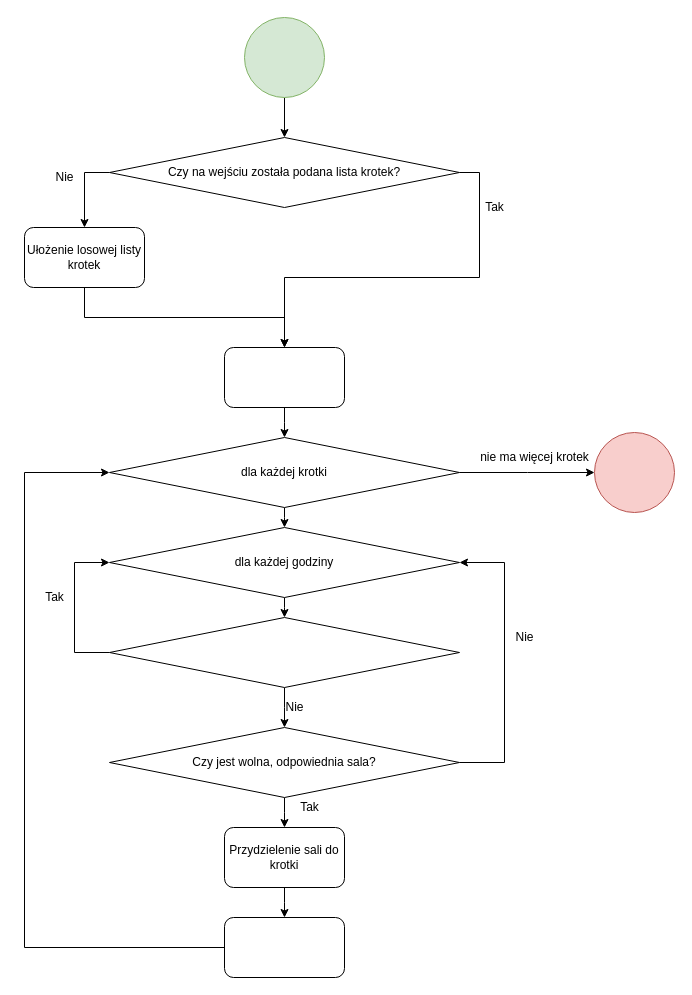
The diagram is 692 pixels wide and 995 high, and some of its shapes have lost their labels. The shapes that lost their labels are listed below. From the top down, each one's centre as x and y in pixels, then its label:
At [284,377]: "przydzielenie nauczycieli do krotek (jeżeli nauczyciel ma wartość null)".
At [284,652]: "Czy nauczyciel ma już zajęcia w wskazanej godzinie?".
At [284,947]: "Wstawienie krotki do planu zajęć".
